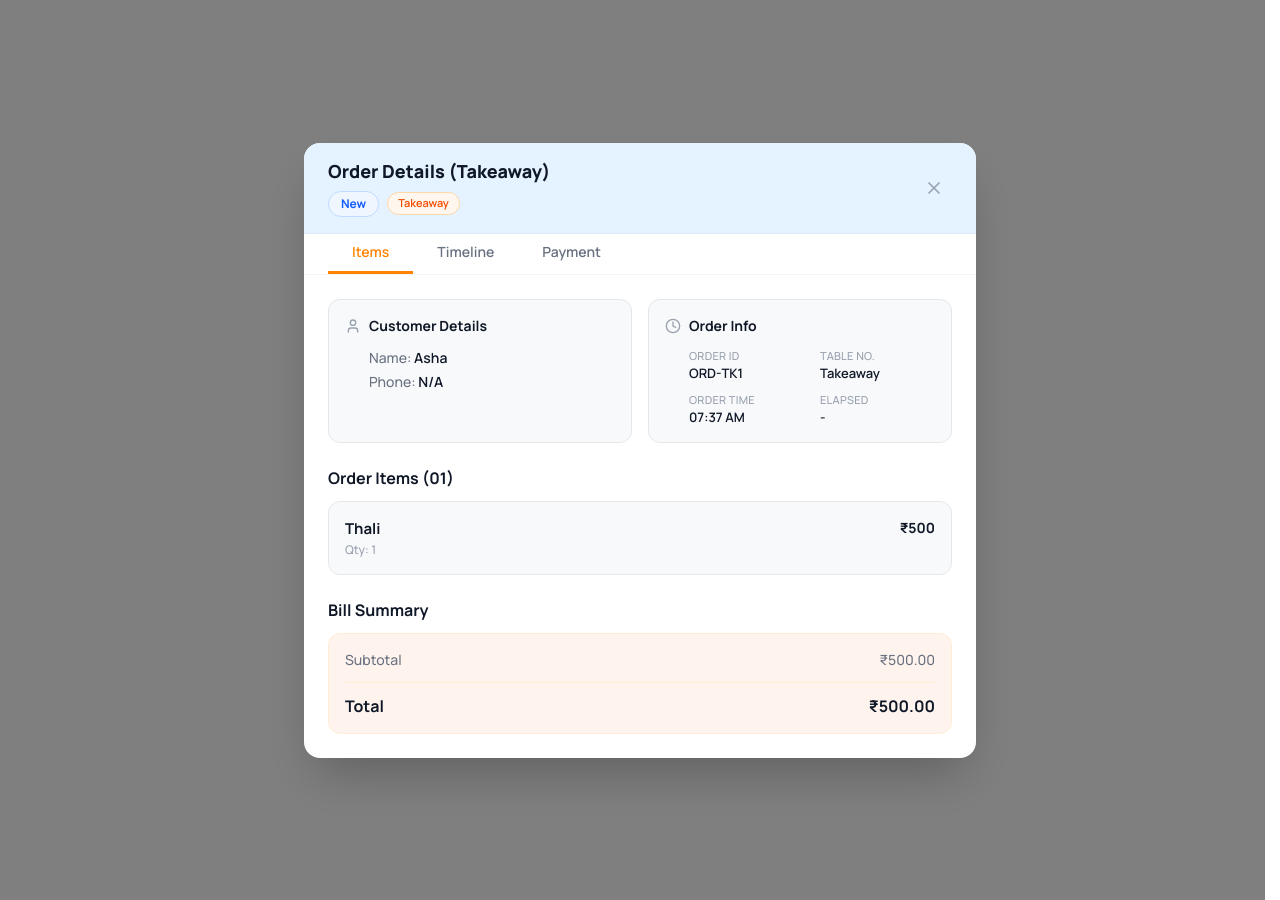
it: OrderDetailsModal — split payment › a part-paid order only has to cover the remainder
Step 1. Click the button "Payment" → (572, 258), box [518,242,625,274]
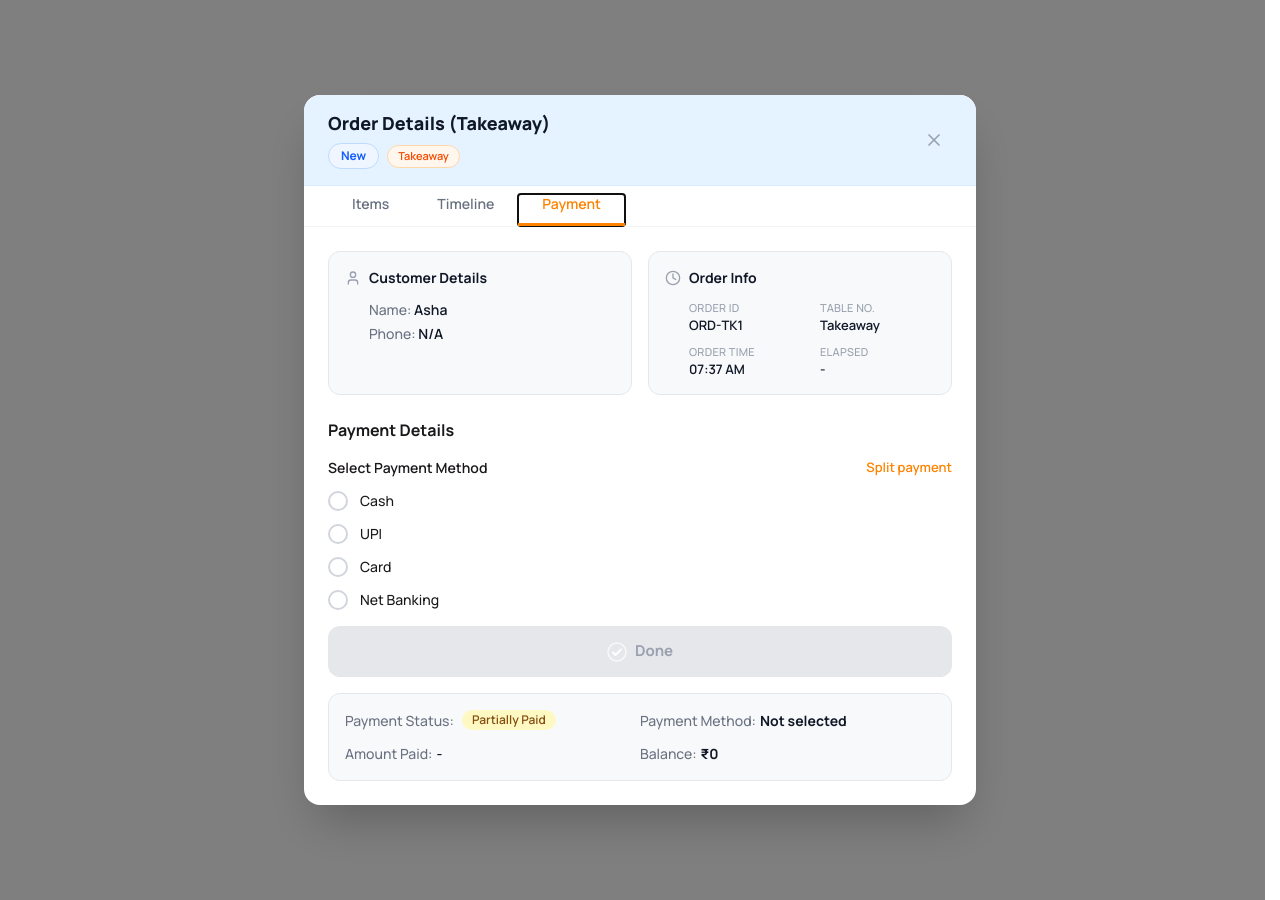
Step 2. Click the button "Split payment" → (909, 468), box [866,458,952,478]
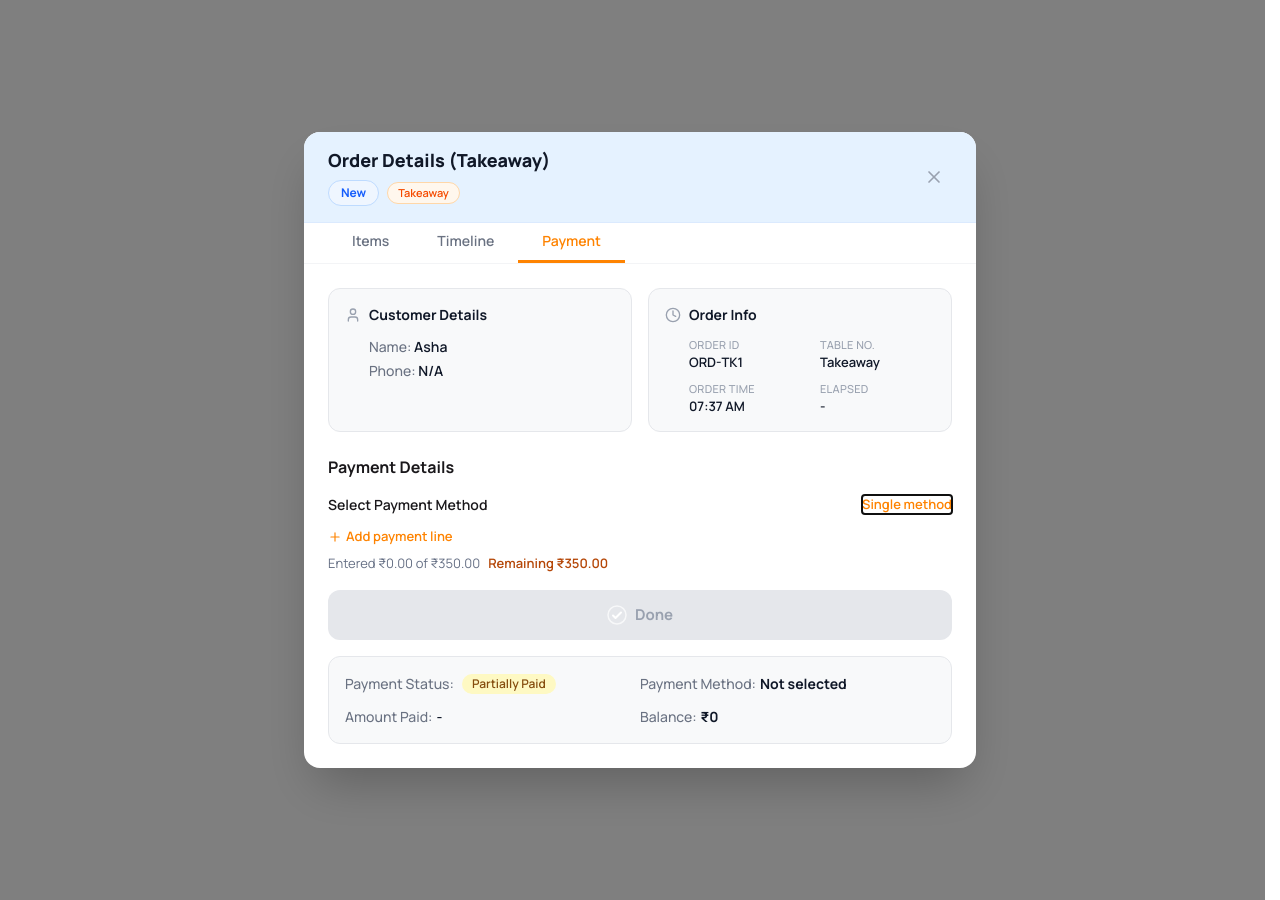
Step 3. Click the button "Add payment line" → (390, 537), box [328,527,453,546]
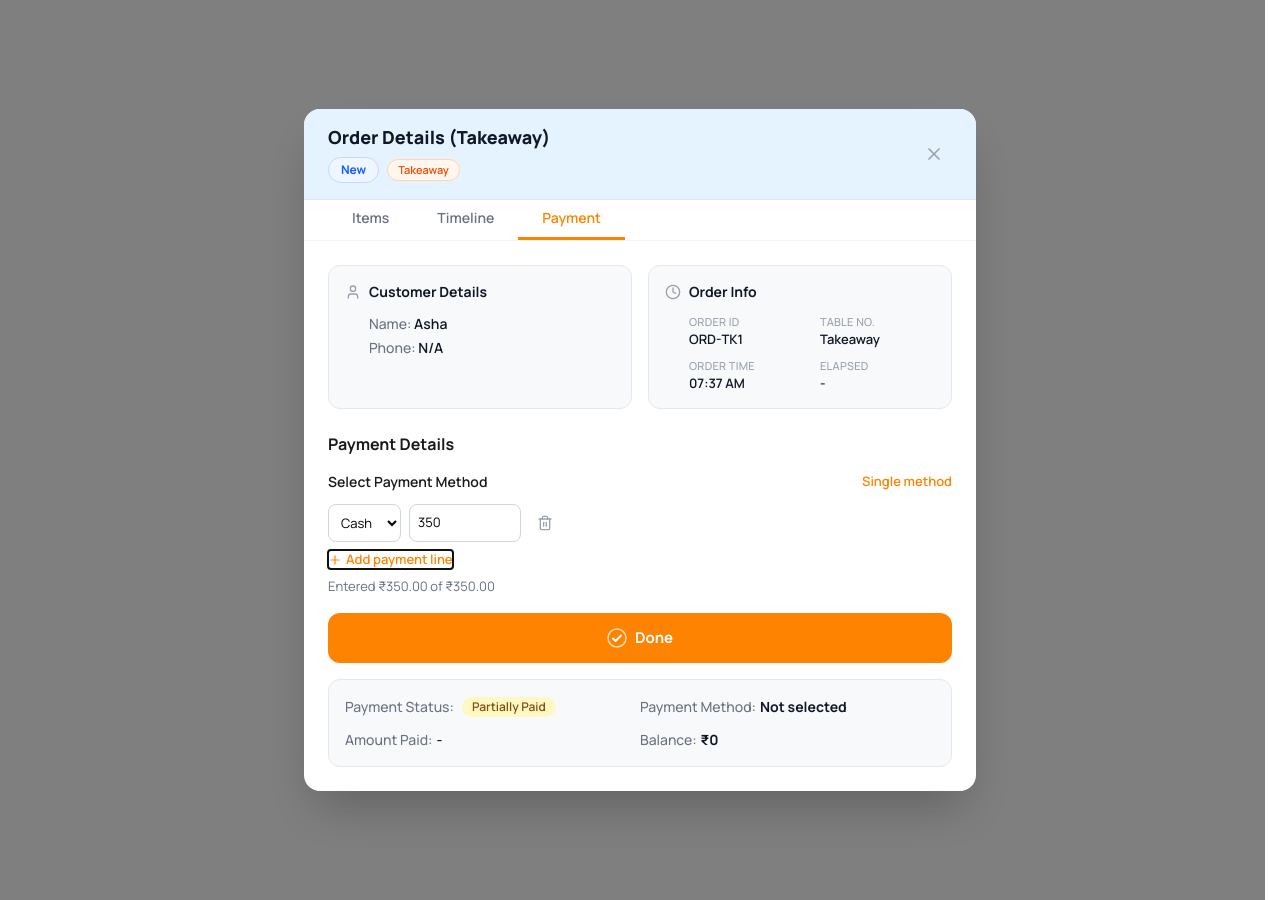
expect the number field named "Payment amount 1" holds "350": met, box [409,504,521,542]
